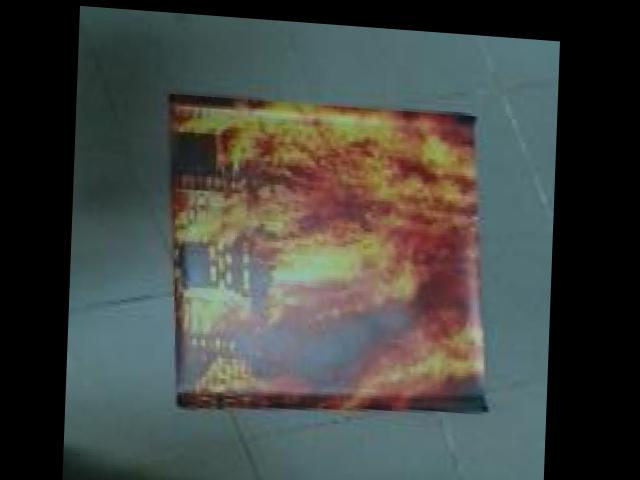fire-poster: (158, 81, 502, 427)
